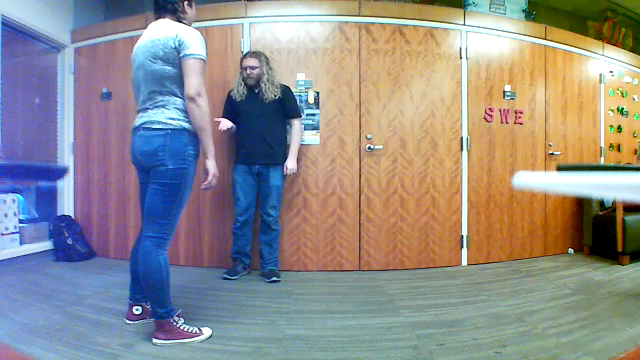land: (211, 113, 237, 133)
